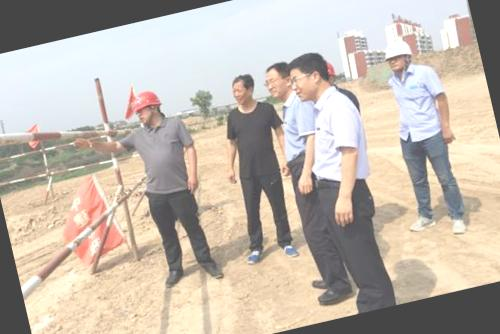no_helmet: (279, 42, 343, 107), (258, 59, 297, 103), (224, 68, 262, 106)
